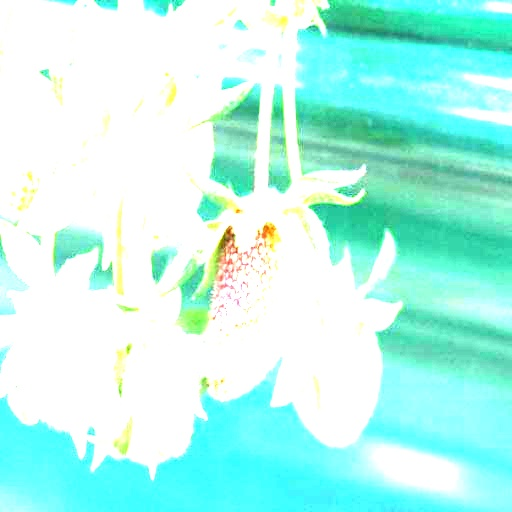Gray Mold: (199, 167, 308, 402)
